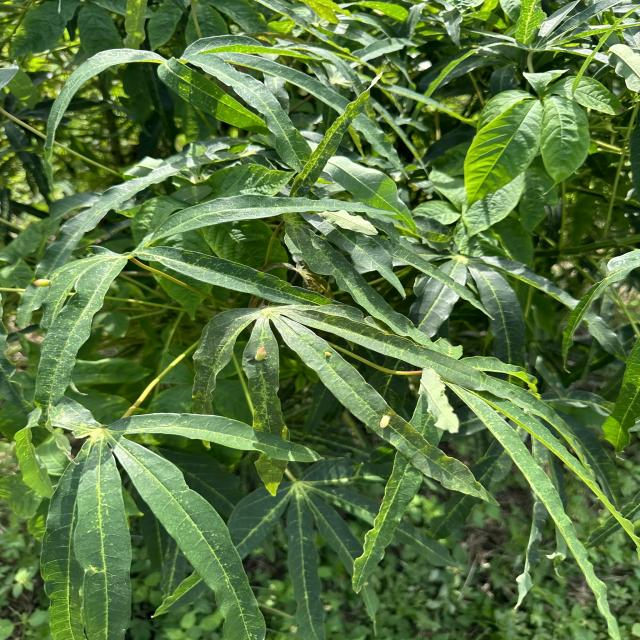Maleza: (454, 64, 615, 202)
Mosca: (374, 406, 403, 443), (245, 336, 274, 369), (30, 274, 53, 293), (319, 345, 336, 364)
